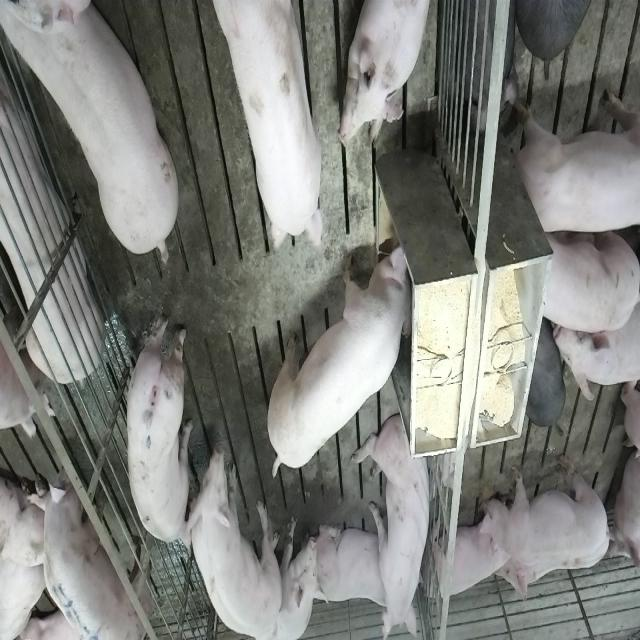Feeding: (270, 240, 420, 478)
Sitting: (352, 412, 437, 636), (272, 508, 322, 638)
Standing: (6, 5, 184, 266), (198, 0, 325, 251), (25, 448, 150, 640), (190, 398, 286, 635), (514, 85, 638, 237), (125, 312, 195, 548), (478, 452, 610, 564), (554, 247, 640, 401), (539, 226, 637, 334)
Sternal_lying: (0, 58, 102, 450), (342, 0, 436, 148), (429, 508, 506, 604), (314, 518, 392, 610)
